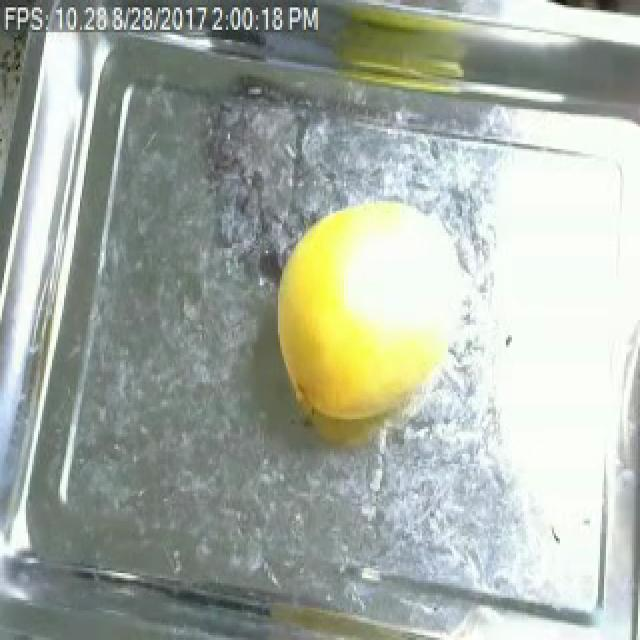fruit: (256, 176, 474, 444), (312, 0, 490, 129)
